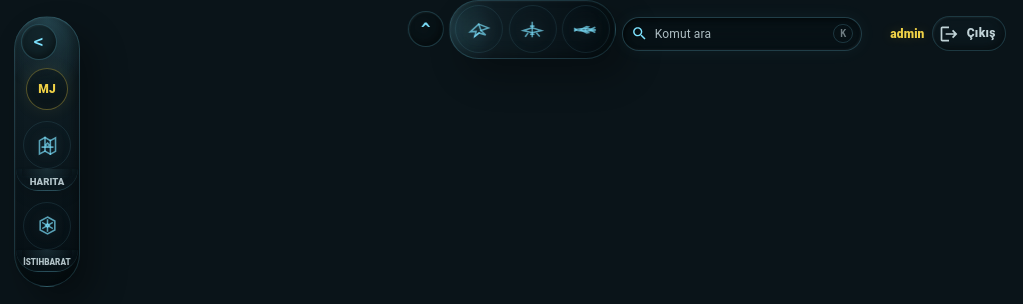
Test: RootLayout tactical command rail › collapses and expands the left rail using the same pattern as the top video menu
Hover over the tab "Harita" at (47, 158), box [15, 121, 79, 195]
Wait 80 ms
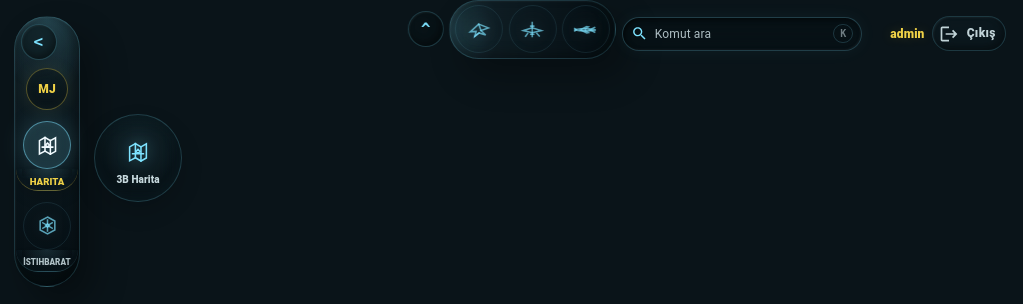
Click the button with test id "main-rail-collapse-toggle". click: (39, 42)
box: [21, 24, 57, 60]
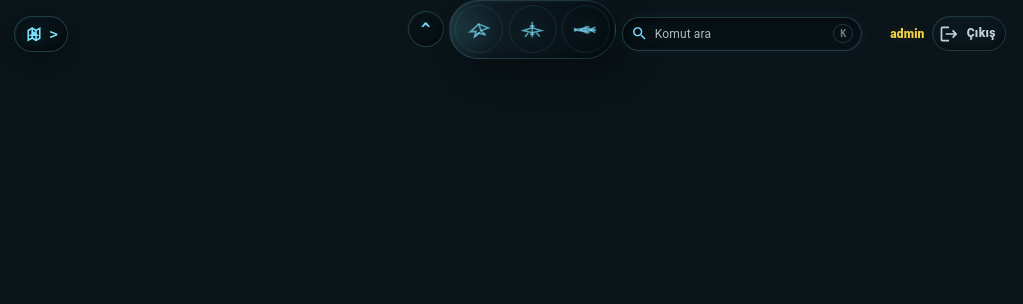
Result: the element with test id "main-shell-tabs" is gone
Result: the element with test id "rail-flyout-panel" is gone
Result: the button named "Sol menüyü aç" is collapsed
Click the button named "Sol menüyü aç". click: (41, 34)
box: [14, 16, 68, 52]
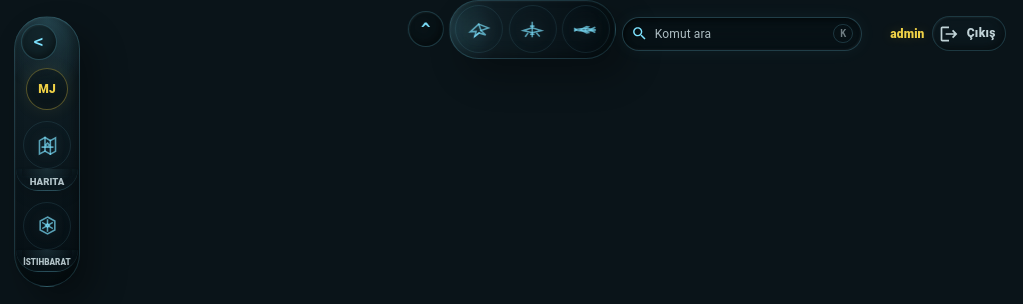
Result: the element with test id "main-shell-tabs" is shown at [15, 118, 79, 279]
